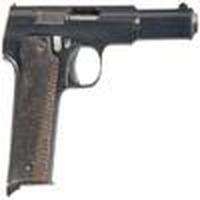gun: (2, 3, 195, 195)
